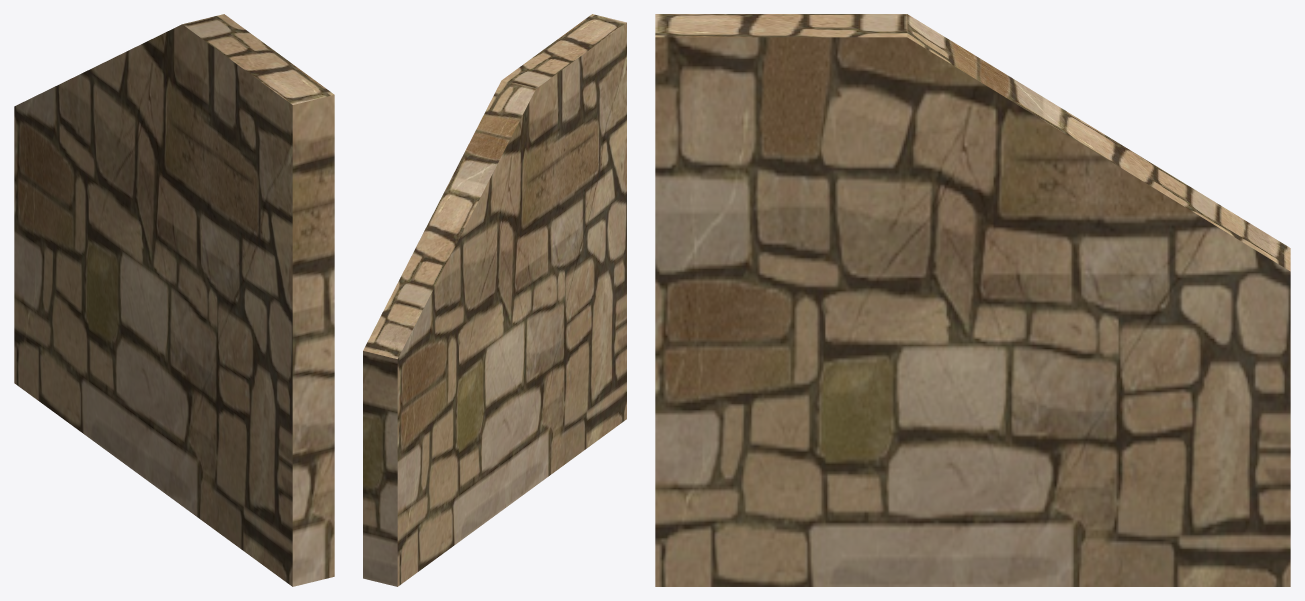
The model's file is salle0_rampe.FBX.
3 views of the same model, side by side, from view 1: azimuth 30°, elevation 25°; view 2: azimuth 150°, elevation 25°; view 3: azimuth 270°, elevation 25° (orthographic). The views are drawn at different scales.
Visible parts, largest first — view 1: salle0_rampe; view 2: salle0_rampe; view 3: salle0_rampe.
Boxes of the visible parts, left/top/right/bottom form: salle0_rampe: left=14, top=14, right=334, bottom=586; salle0_rampe: left=363, top=14, right=626, bottom=586; salle0_rampe: left=655, top=14, right=1290, bottom=586.
Bounding box in the file's own units: 11.51 × 126 × 132.
Materials: 1 (1 with a texture image).
